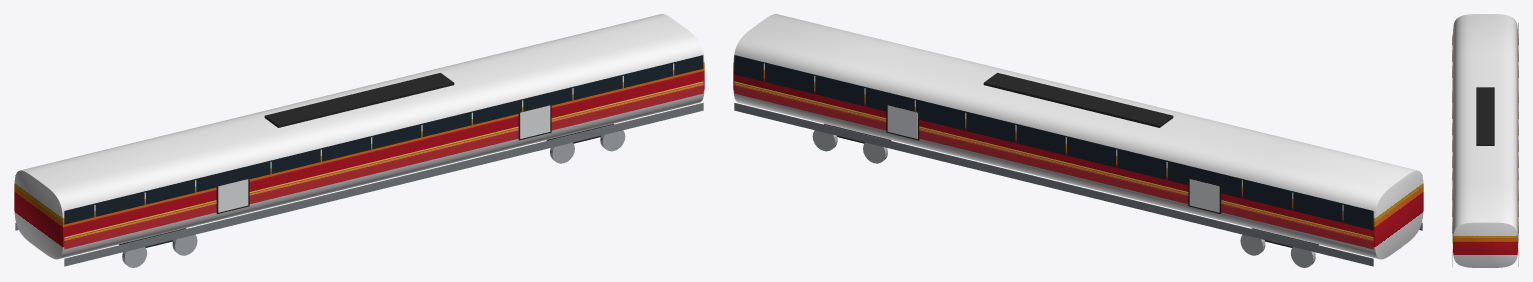
The model's file is cr400af-bs-middle-lod-v003.glb.
3 renders of one model, left to right at view 1: azimuth 30°, elevation 25°; view 2: azimuth 150°, elevation 25°; view 3: azimuth 270°, elevation 25°, orthographic. The views are drawn at different scales.
Visible parts, largest first — view 1: GEO-middle-lod, M-door_-1_6, M-door_-1_-6; view 2: GEO-middle-lod, M-door_1_6, M-door_1_-6; view 3: GEO-middle-lod.
Part boxes in pixels (<box>): GEO-middle-lod: <box>14,14,704,267</box>; M-door_-1_6: <box>520,105,550,138</box>; M-door_-1_-6: <box>218,179,248,212</box>; GEO-middle-lod: <box>733,14,1423,267</box>; M-door_1_6: <box>887,105,917,138</box>; M-door_1_-6: <box>1189,179,1219,212</box>; GEO-middle-lod: <box>1452,14,1518,267</box>.
Bounding box in the file's own units: 25.5 × 3.76 × 3.44.
Materials: 9 (1 with a texture image).
